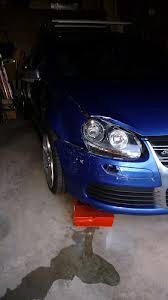Broken-glass: (80, 110, 152, 166)
Scratch: (65, 143, 137, 188)
